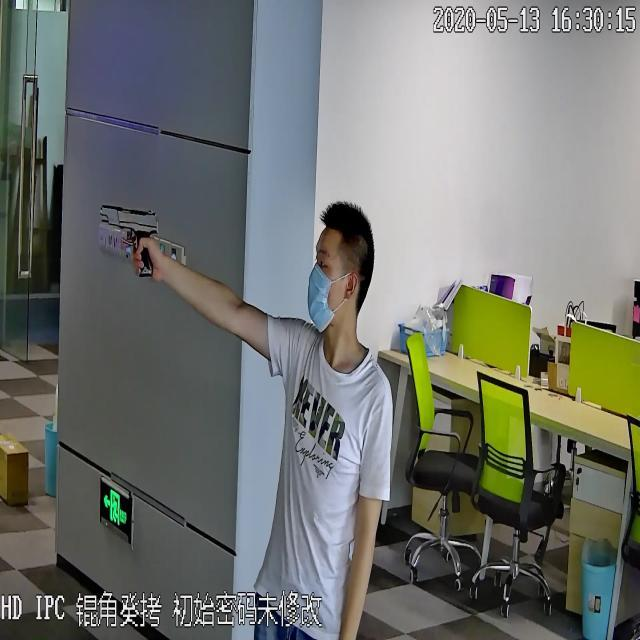gun: (94, 198, 160, 286)
